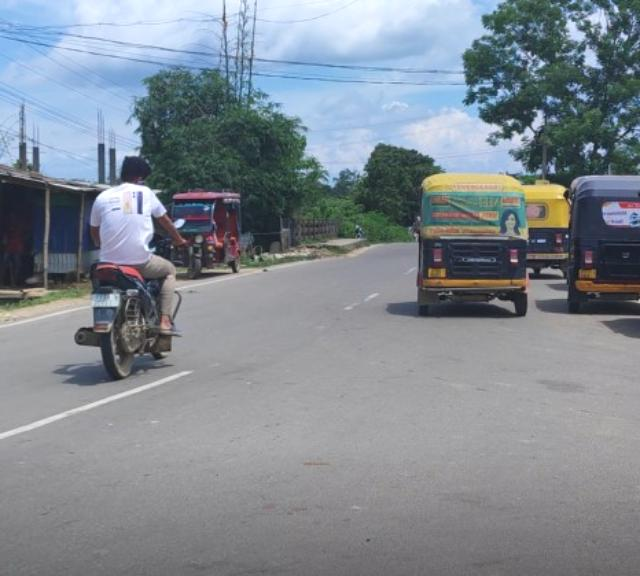licensePlate: (85, 295, 123, 313)
motorcycle: (73, 154, 182, 384)
withoutHelmet: (114, 156, 152, 183)
